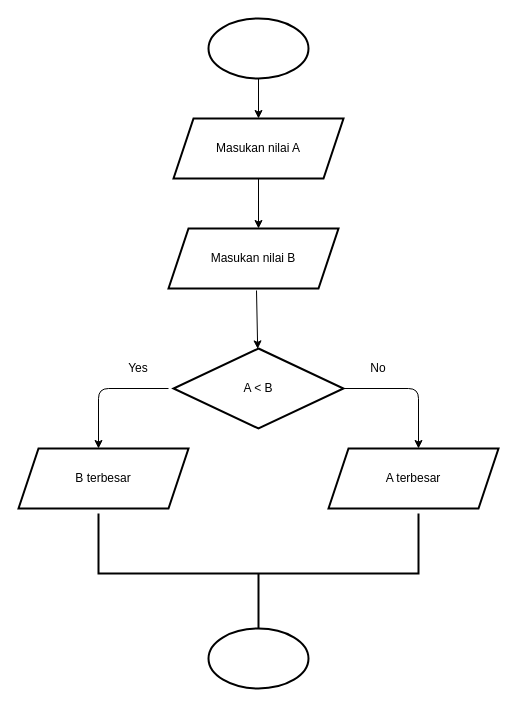
Some shapes in this 516 by 706 pixel diagram are drawn without their labels. Each missing label, with the centre of its shape:
Mulai: the point at 258,48
Selesai: the point at 258,658
